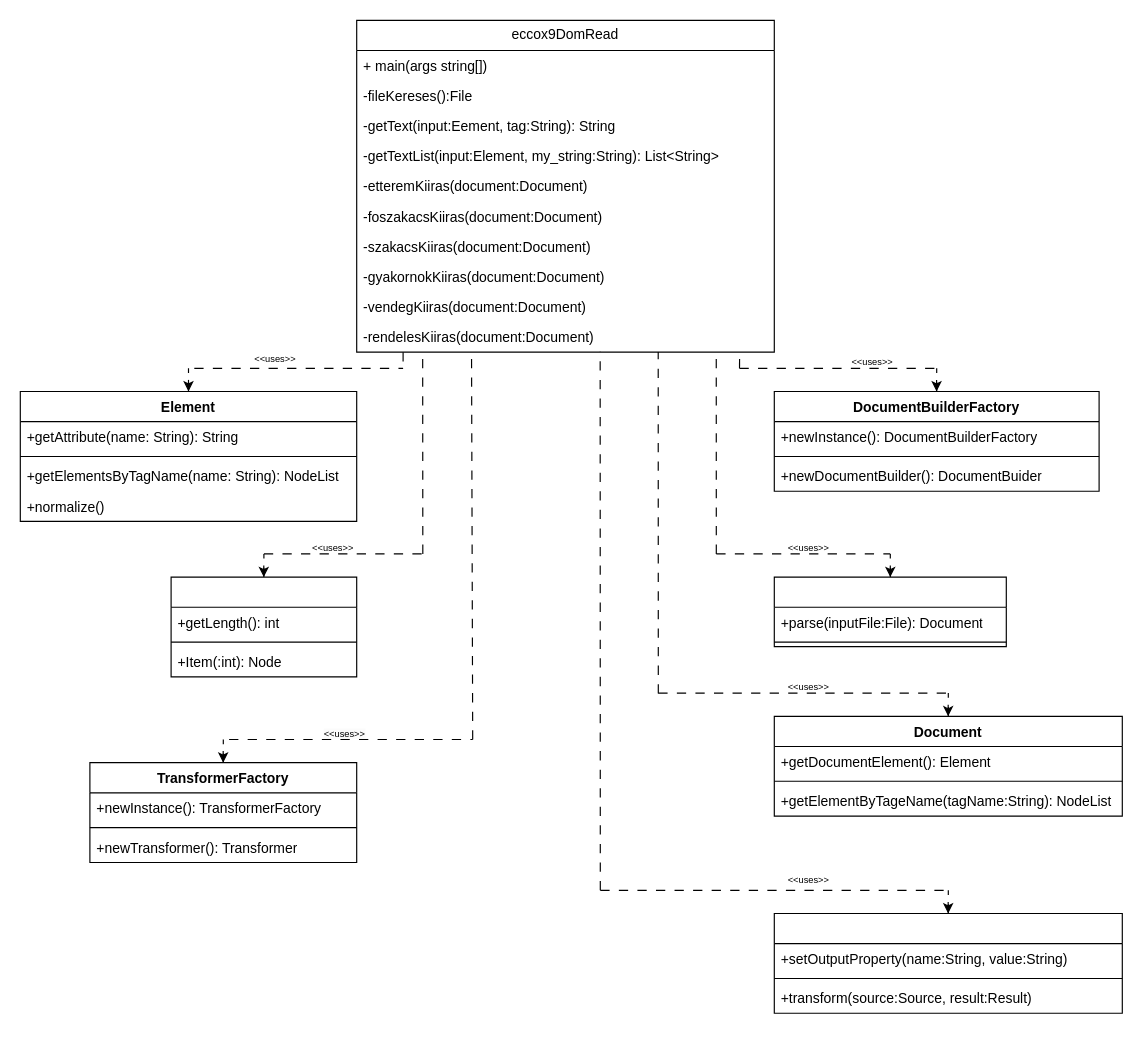
Image size: 1143x1037. Some labels were removed from this diagram. Here are the shapes that lost their labels. From the top down, the box of each, then its label:
(170, 576, 357, 677): NodeList
(773, 576, 1006, 647): DocumentBuilder
(773, 912, 1122, 1013): Transformer
